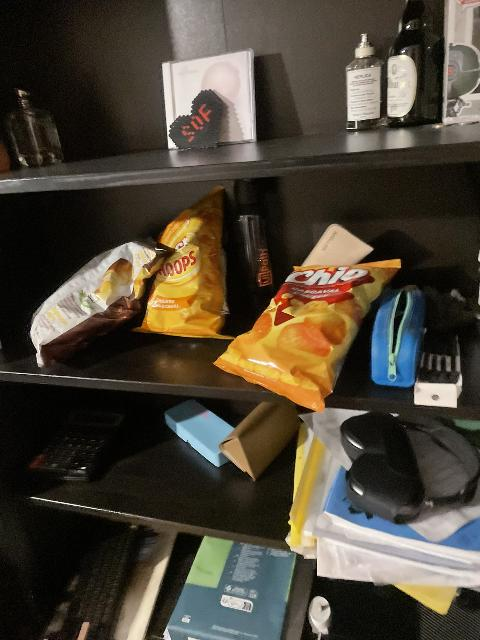Chio Cascaval 125g: (210, 253, 402, 412), (127, 189, 231, 335)
Lays Beef Grilled Ribs 125g: (28, 241, 166, 367)
